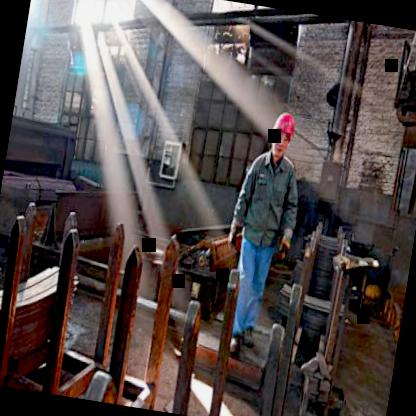helmet: (266, 101, 302, 163)
